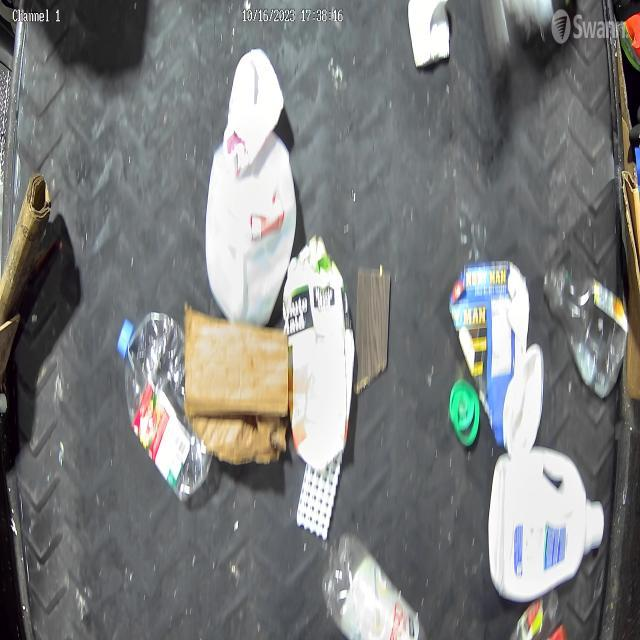milk_jug: (206, 144, 302, 336)
plastic_bottle: (114, 312, 194, 505), (314, 533, 424, 640), (547, 268, 631, 398)
